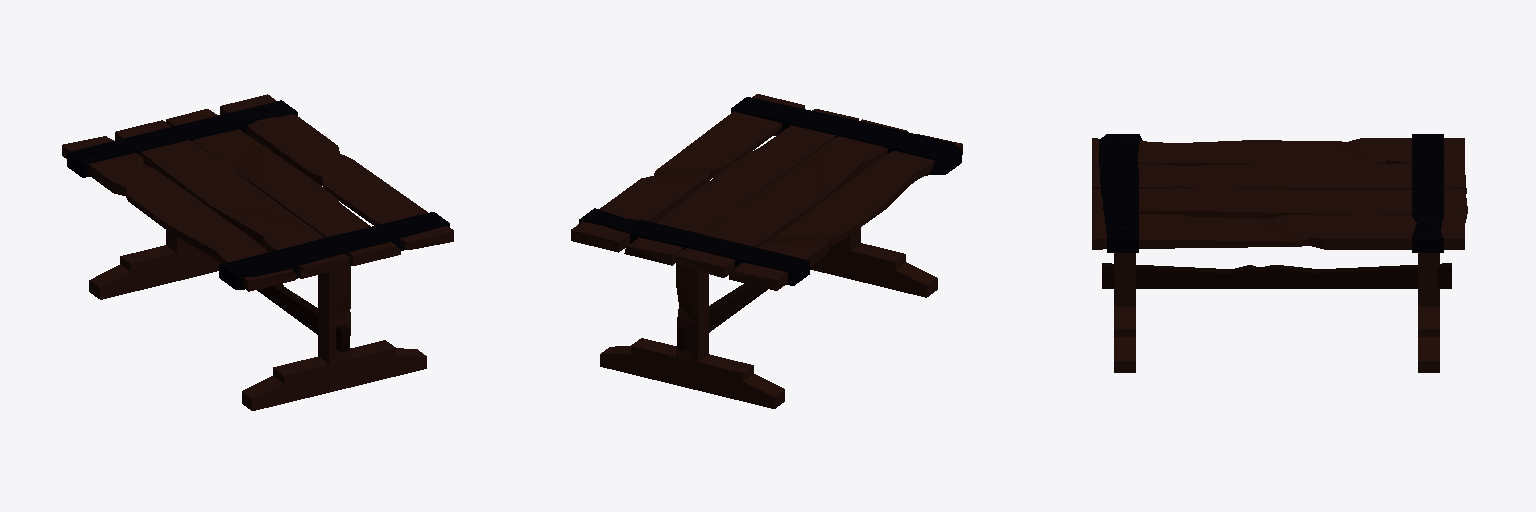
The model's file is Table_Small.obj.
The picture shows the model from 3 angles: view 1: azimuth 30°, elevation 25°; view 2: azimuth 150°, elevation 25°; view 3: azimuth 270°, elevation 25°; orthographic projection.
Visible parts, largest first — view 1: Table_Small_Cube.012; view 2: Table_Small_Cube.012; view 3: Table_Small_Cube.012.
Part boxes in pixels (bbox=[...]): Table_Small_Cube.012: bbox=[62, 94, 453, 410]; Table_Small_Cube.012: bbox=[571, 94, 962, 408]; Table_Small_Cube.012: bbox=[1092, 134, 1467, 372].
Size of the model in its own units: 1.3 by 0.854 by 1.98.